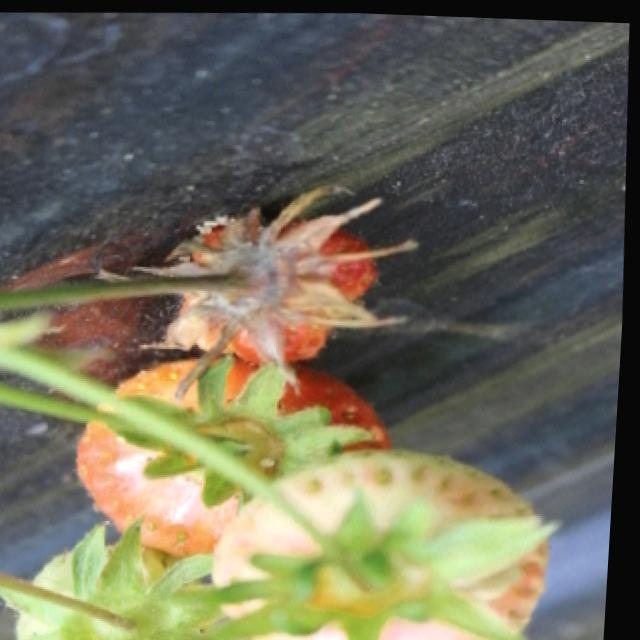Gray Mold: (132, 181, 418, 399)
